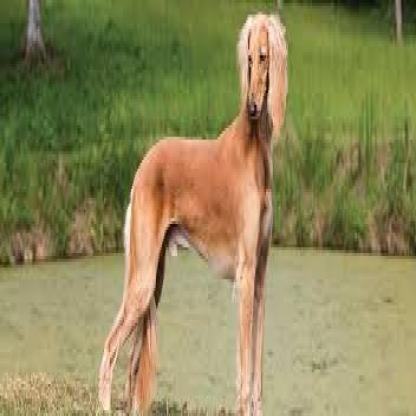saluki: (86, 8, 297, 416)
